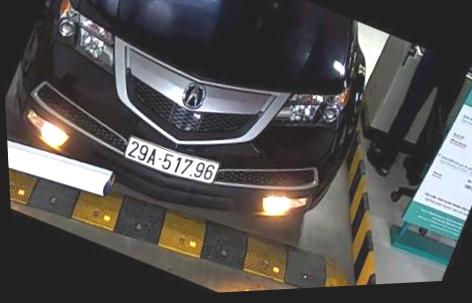License_Plate: (121, 125, 222, 193)
